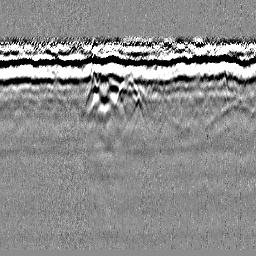cavity: (111, 76, 143, 112)
